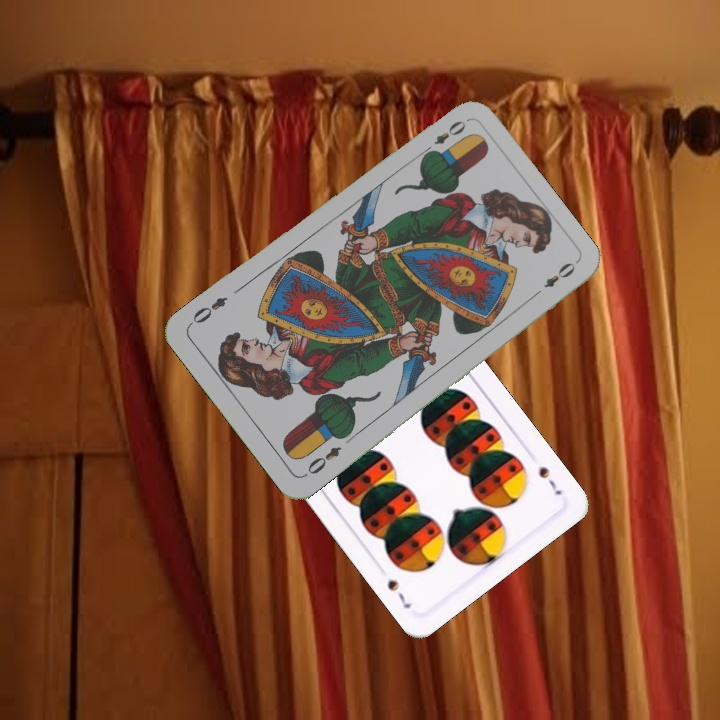EO: (418, 116, 469, 158), (300, 442, 344, 480)
S7: (534, 461, 565, 498)
